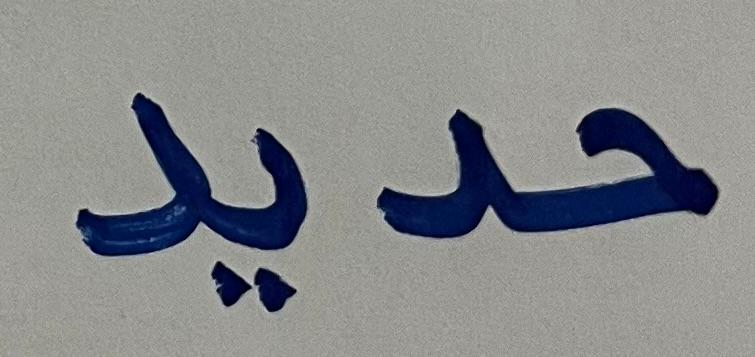dal: (45, 72, 207, 323), (367, 60, 522, 284)
hah: (529, 41, 728, 300)
yeh: (210, 101, 337, 343)
